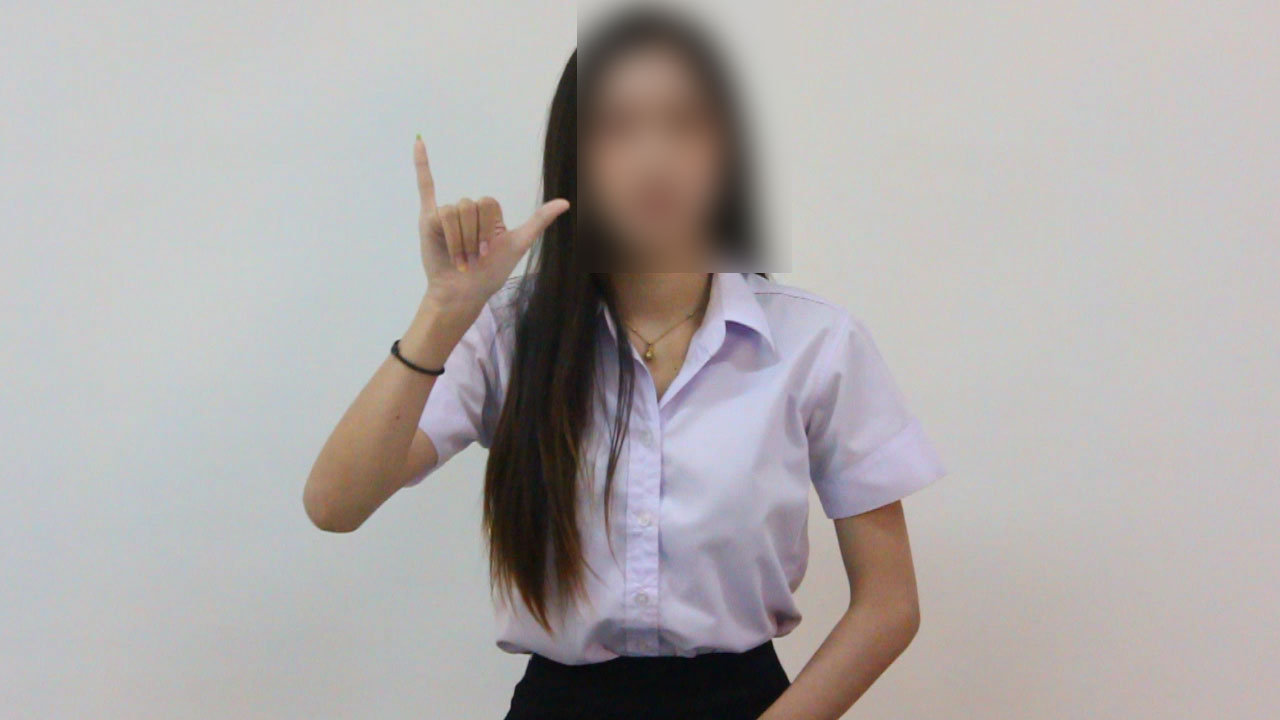yor: (395, 131, 581, 323)
